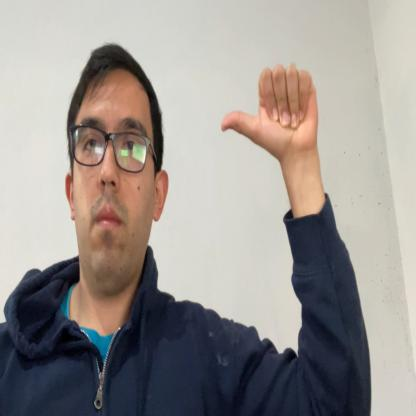A: (220, 62, 319, 161)
